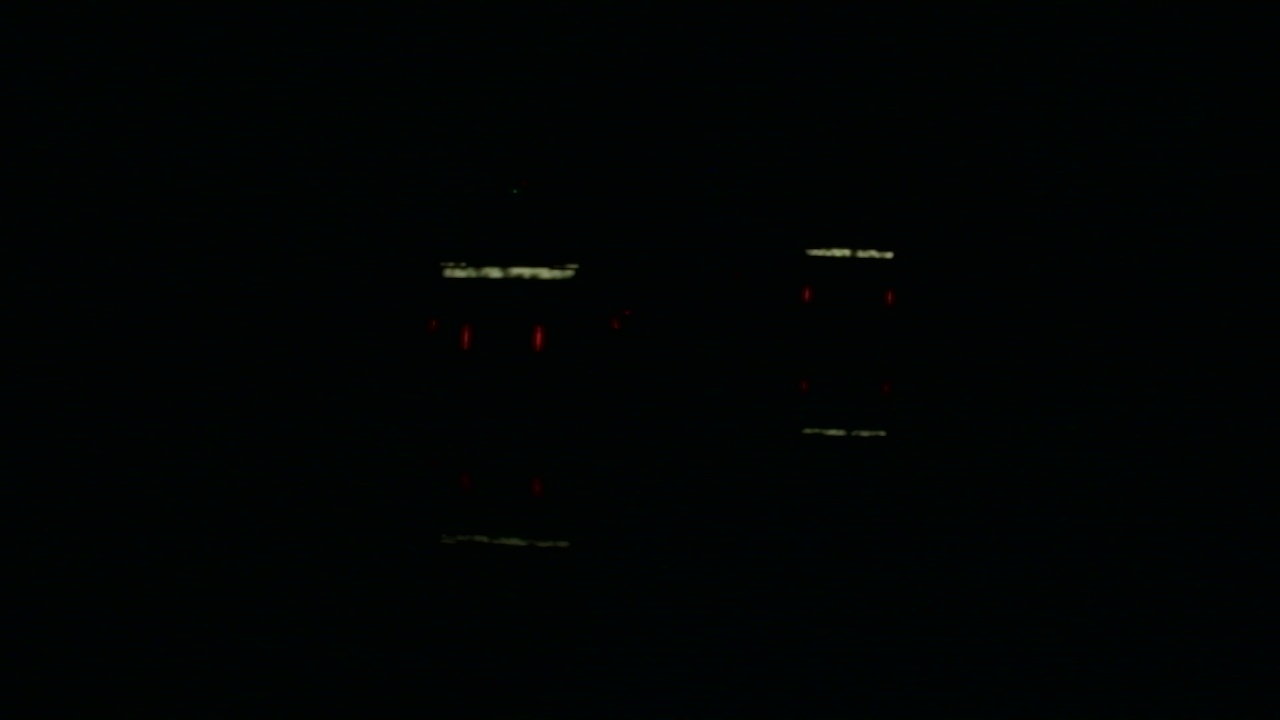lamp: (535, 325, 543, 352), (460, 323, 467, 351), (885, 285, 893, 305), (801, 287, 807, 307)
pair1: (460, 326, 542, 351)
pair2: (803, 287, 893, 306)
